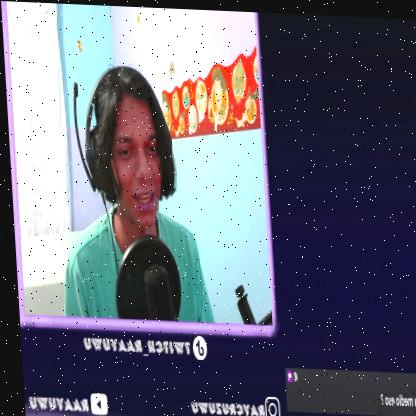streamer: (47, 60, 210, 321)
